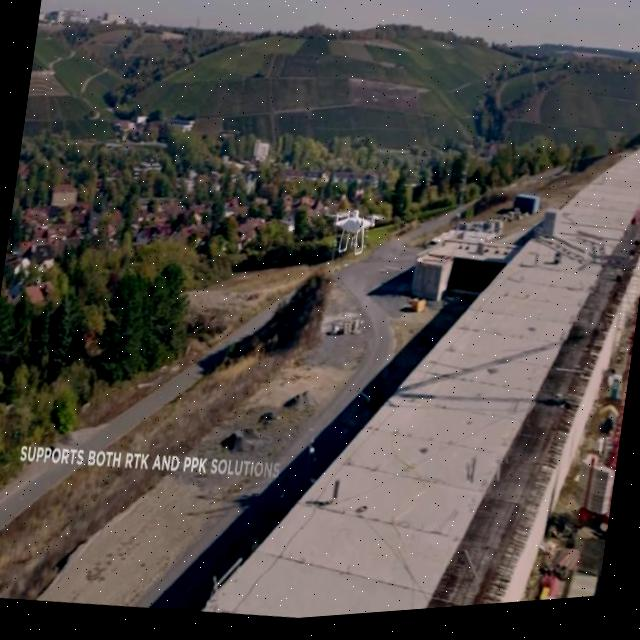drone: (318, 206, 387, 266)
